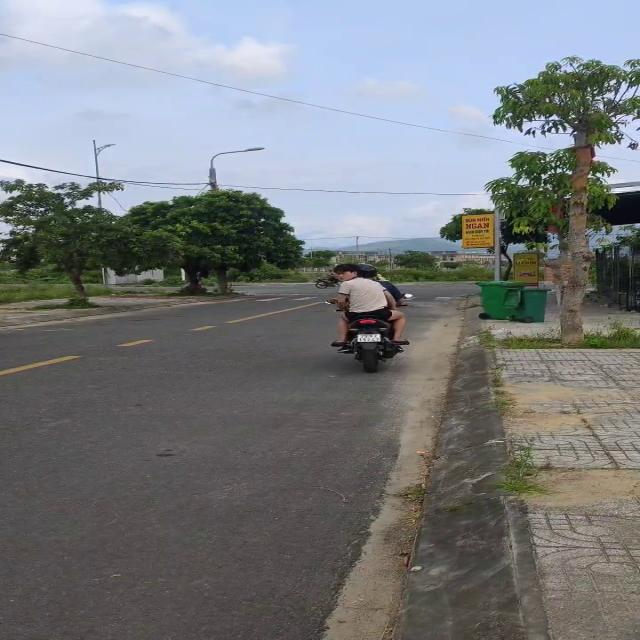helmet: (354, 264, 377, 278)
no_helmet: (332, 264, 362, 276)
